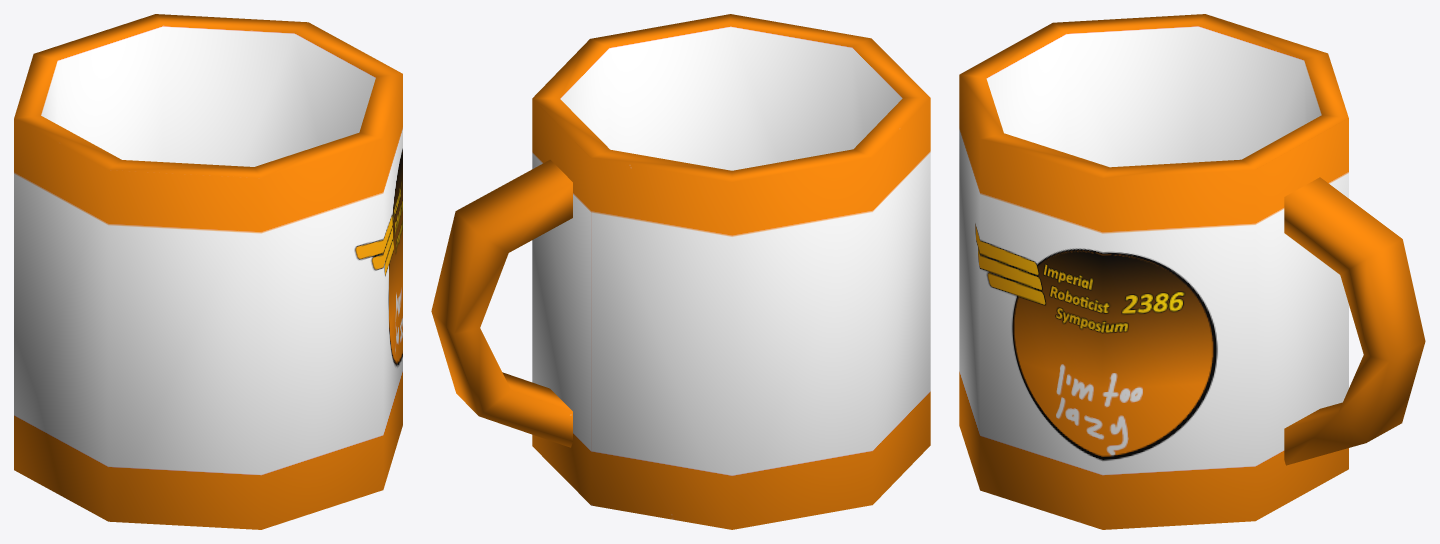
The model's file is Mdl.Mug.fbx.
The picture shows the model from 3 angles, left to right: view 1: azimuth 30°, elevation 25°; view 2: azimuth 150°, elevation 25°; view 3: azimuth 270°, elevation 25°; orthographic projection.
Visible parts, largest first — view 1: Mug; view 2: Mug; view 3: Mug.
Part boxes in pixels (bbox=[...]): Mug: bbox=[14, 14, 402, 529]; Mug: bbox=[431, 14, 930, 529]; Mug: bbox=[959, 14, 1425, 529].
Bounding box in the file's own units: 10.77 × 10.21 × 12.27.
Materials: 1 (1 with a texture image).
